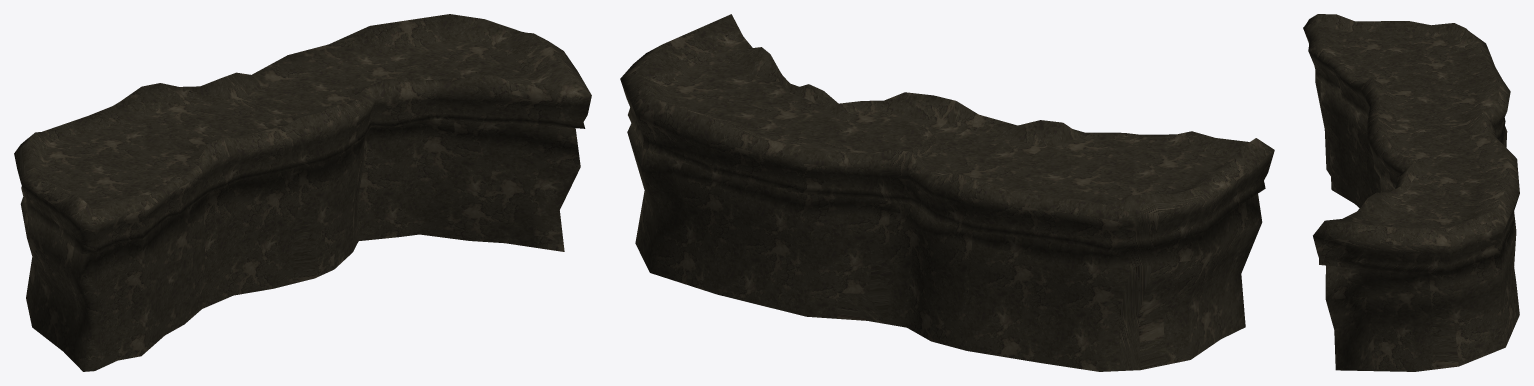
Rendered from Morro.fbx.
3 renders of one model, left to right at view 1: azimuth 30°, elevation 25°; view 2: azimuth 150°, elevation 25°; view 3: azimuth 270°, elevation 25°, orthographic. The views are drawn at different scales.
Parts seen in each view (by area): view 1: VilaMorro; view 2: VilaMorro; view 3: VilaMorro.
Part boxes in pixels (x1,y1,x2,y2): VilaMorro: (14,14,591,371); VilaMorro: (620,14,1274,371); VilaMorro: (1303,14,1519,371).
Size of the model in its own units: 12545 by 3893 by 5066.
